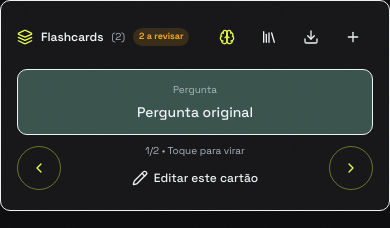
Test: FlashcardsWidget › permite navegar para o próximo flashcard sem precisar avaliá-lo
Expected: the text "Pergunta original" is shown, [137,102,253,120]
Click the button named "Próximo flashcard" at (351, 168), box [329,146,373,190]
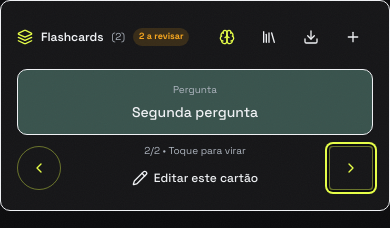
Result: the text "Segunda pergunta" is shown at [132,102,258,120]
